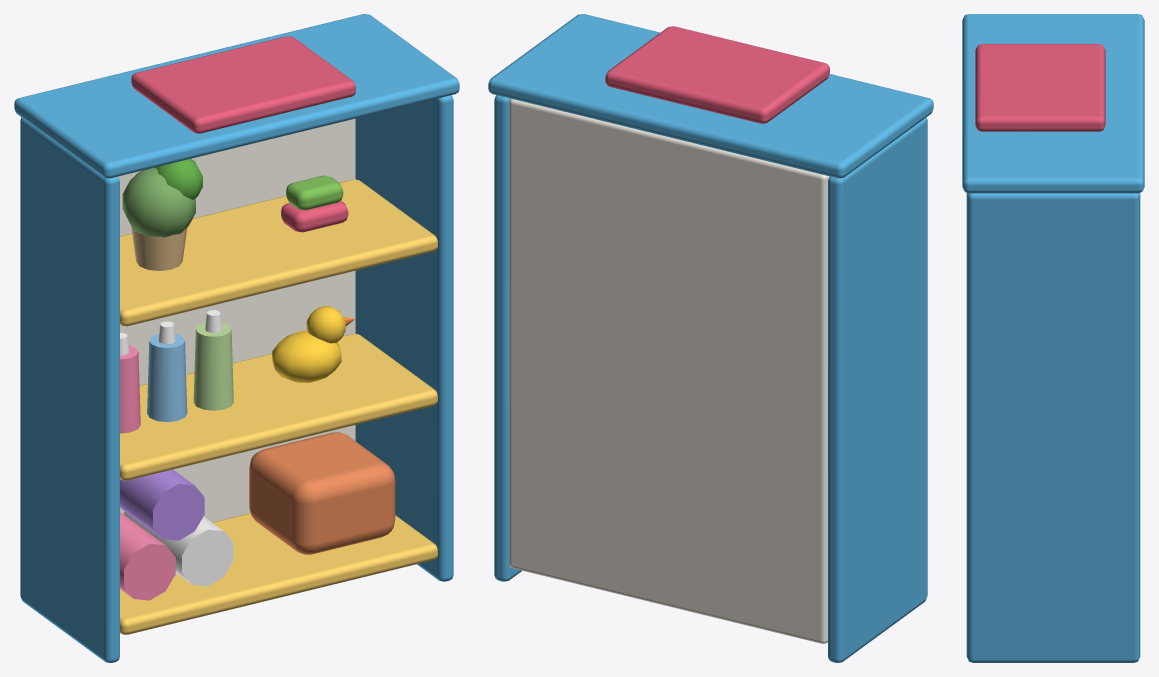
The model's file is bathshelf.glb.
3 views of the same model, side by side, from view 1: azimuth 30°, elevation 25°; view 2: azimuth 150°, elevation 25°; view 3: azimuth 270°, elevation 25° (orthographic). The views are drawn at different scales.
Bounding box in the file's own units: 0.92 × 1.28 × 0.42.
